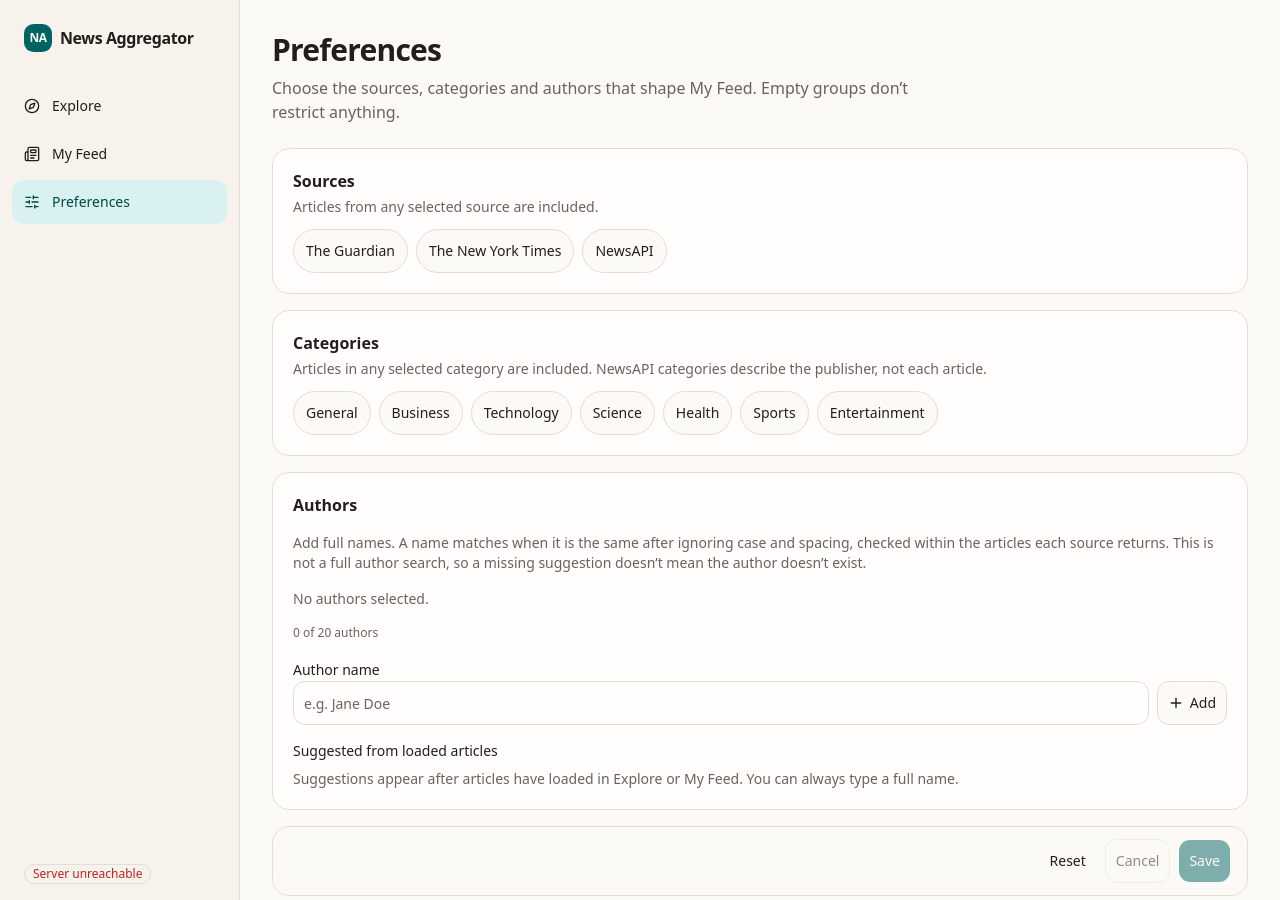
Preferences authors › adds typed full names, preserving accents and commas
This screenshot has width=1280, height=900.
Type "  Zoë   Ångström " into the field labelled "Author name" at (721, 703), box [293, 681, 1149, 725]
Then press Enter
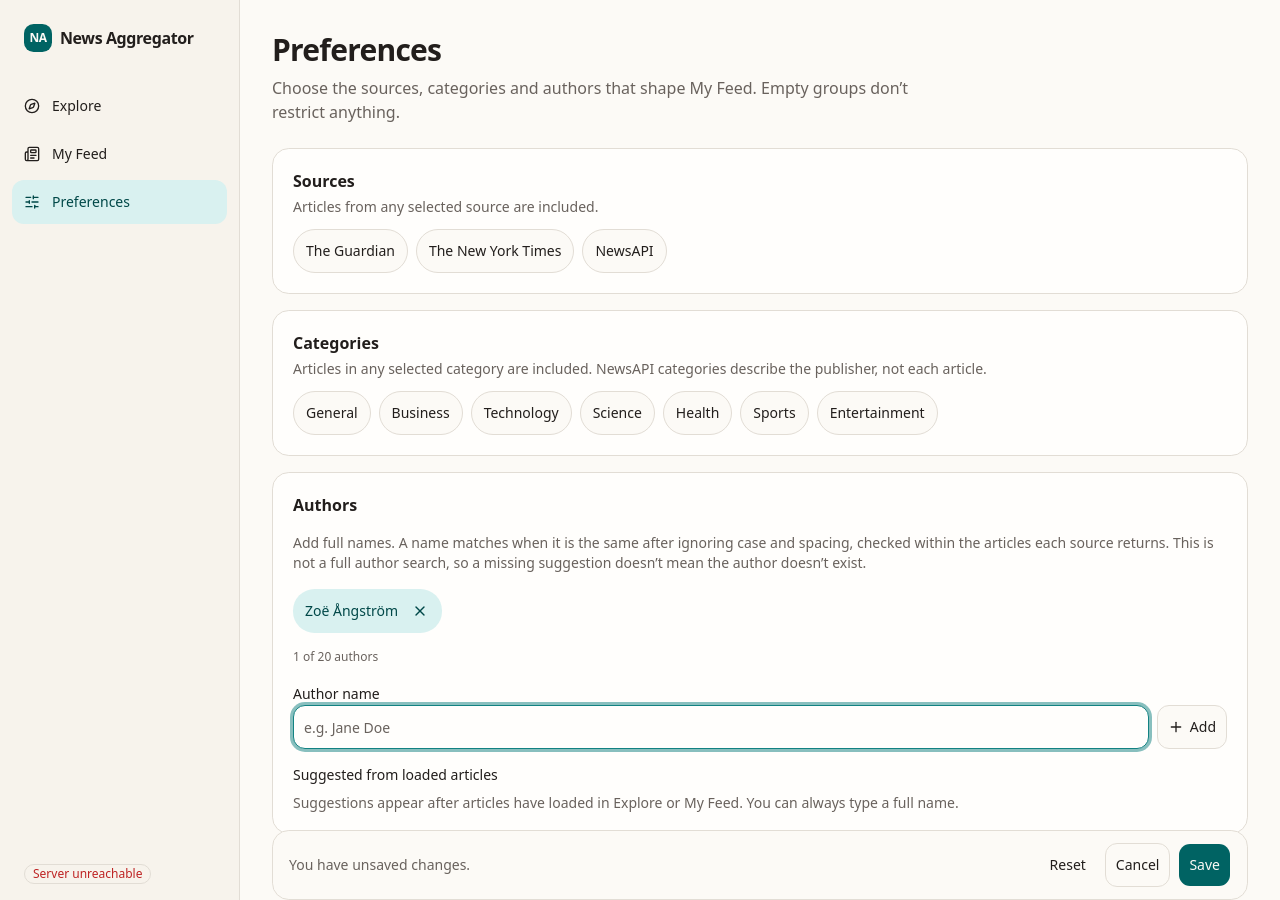
Type "Doe, Jane" into the field labelled "Author name" at (721, 727), box [293, 705, 1149, 749]
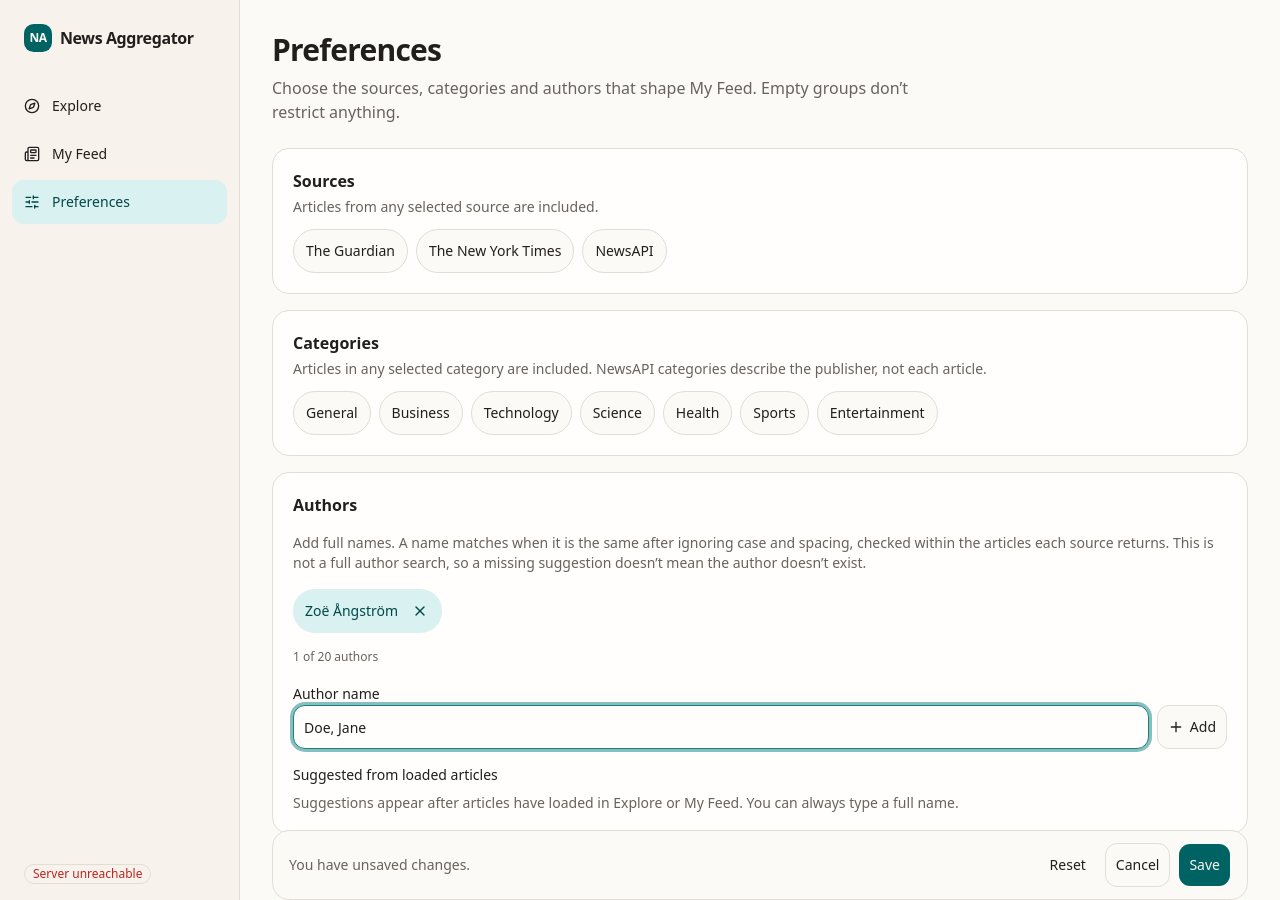
Click the button "Add" at (1192, 727), box [1157, 705, 1227, 749]
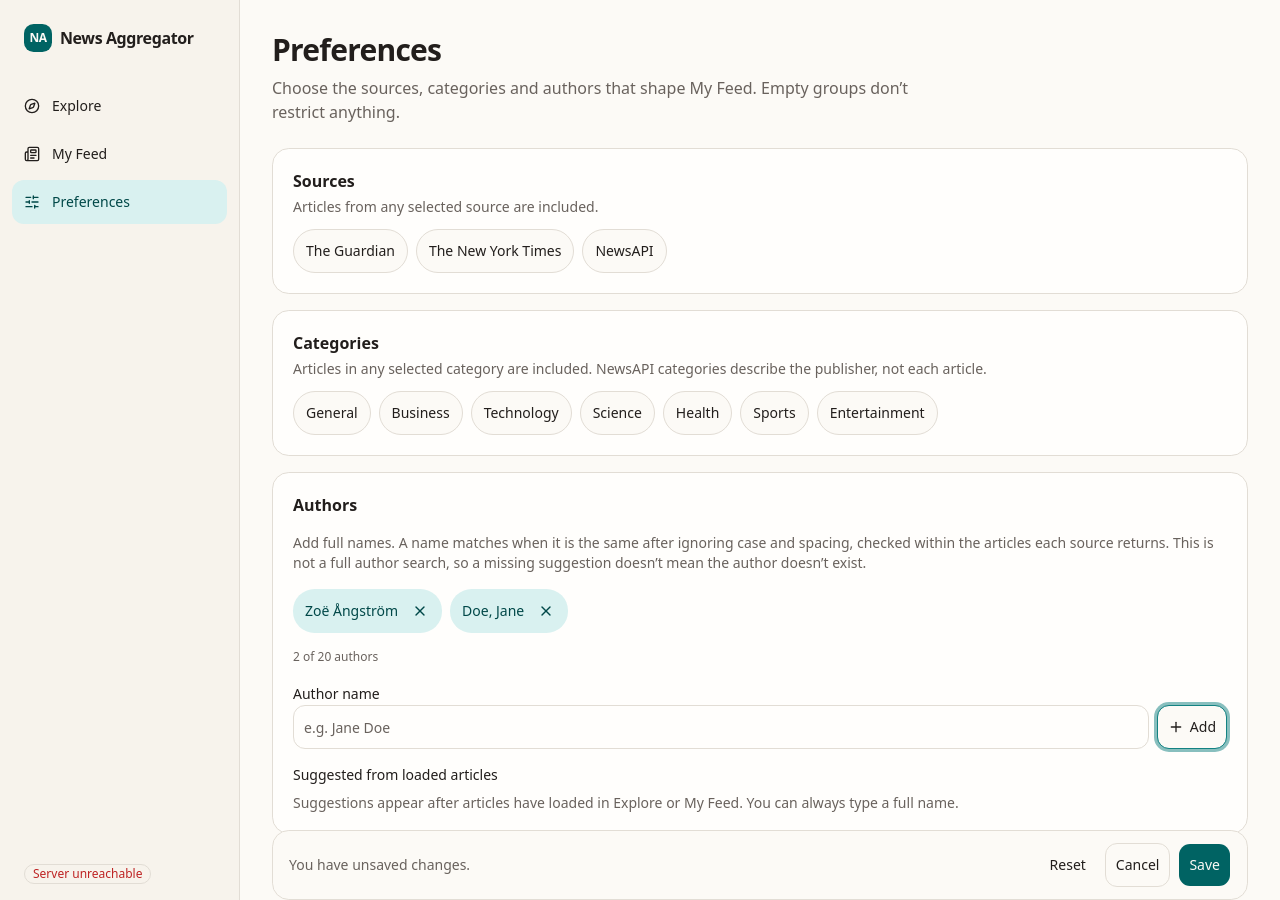
expect the message reads "You have unsaved changes.": met, box [289, 855, 470, 874]
expect the list items read "Zoë Ångström", "Doe, Jane", in this order: met, box [293, 589, 442, 633]; [450, 589, 568, 633]
